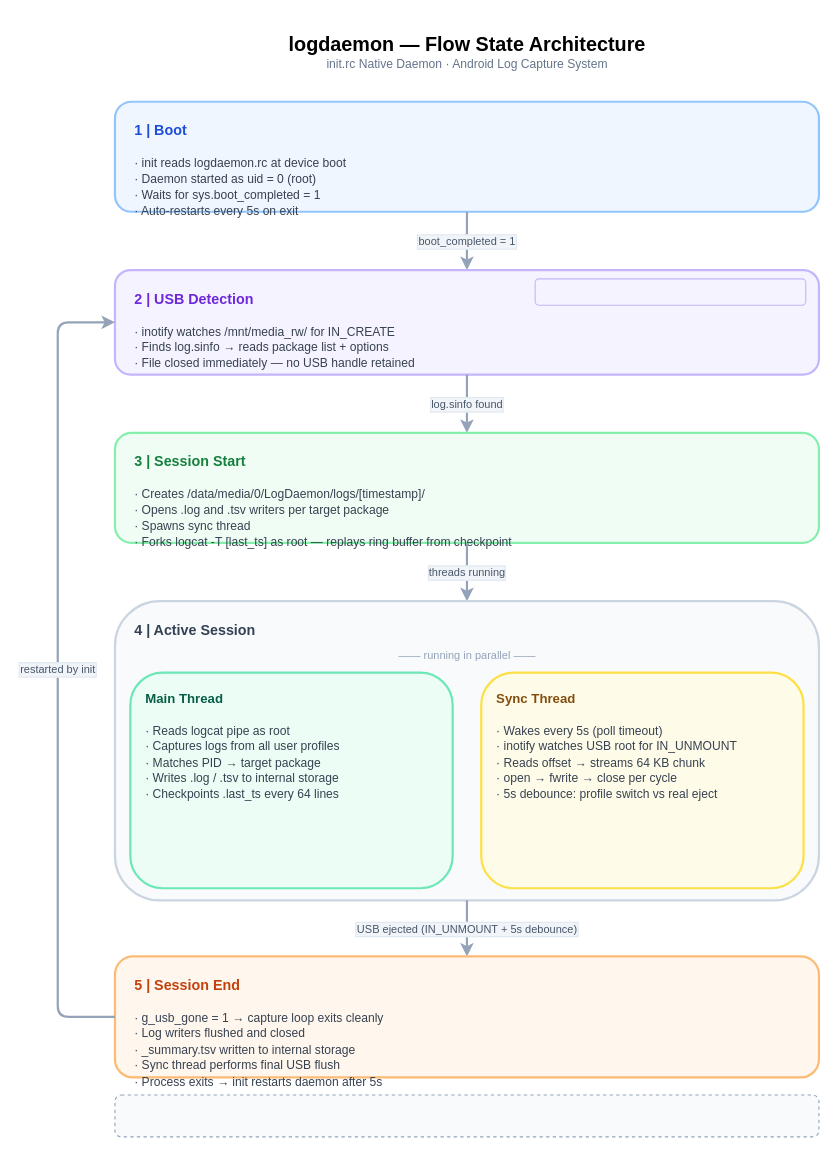
Image size: 838x1156. Some labels were removed from this diagram. The centre of each missing label's shape, as x and y in pixels:
"↺ init restarts logdaemon after 5s → returns to USB Detection (step 2)" goes at pixel 466 1115.
"↺ log.sinfo not found — sleep 5s" goes at pixel 670 291.
